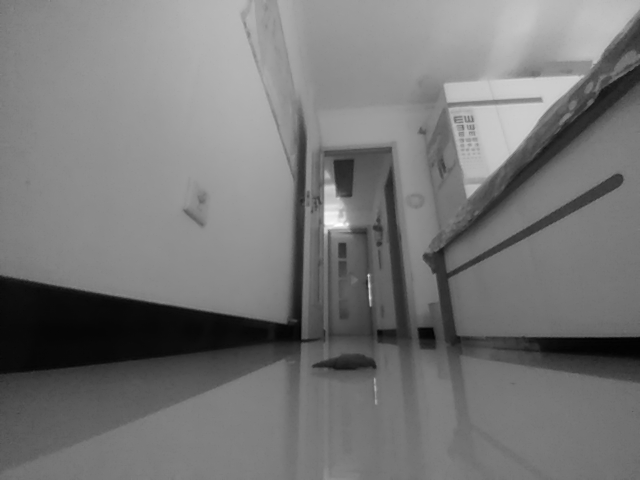pet feces: (311, 352, 377, 371)
